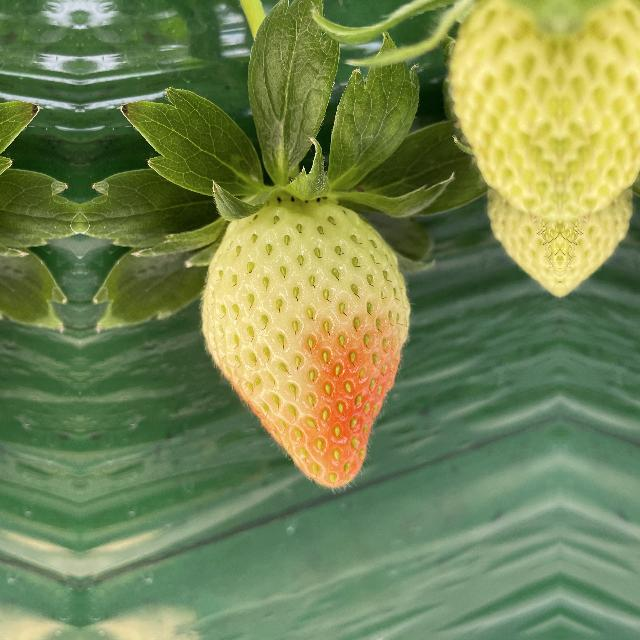Health_50: (199, 195, 421, 492)
